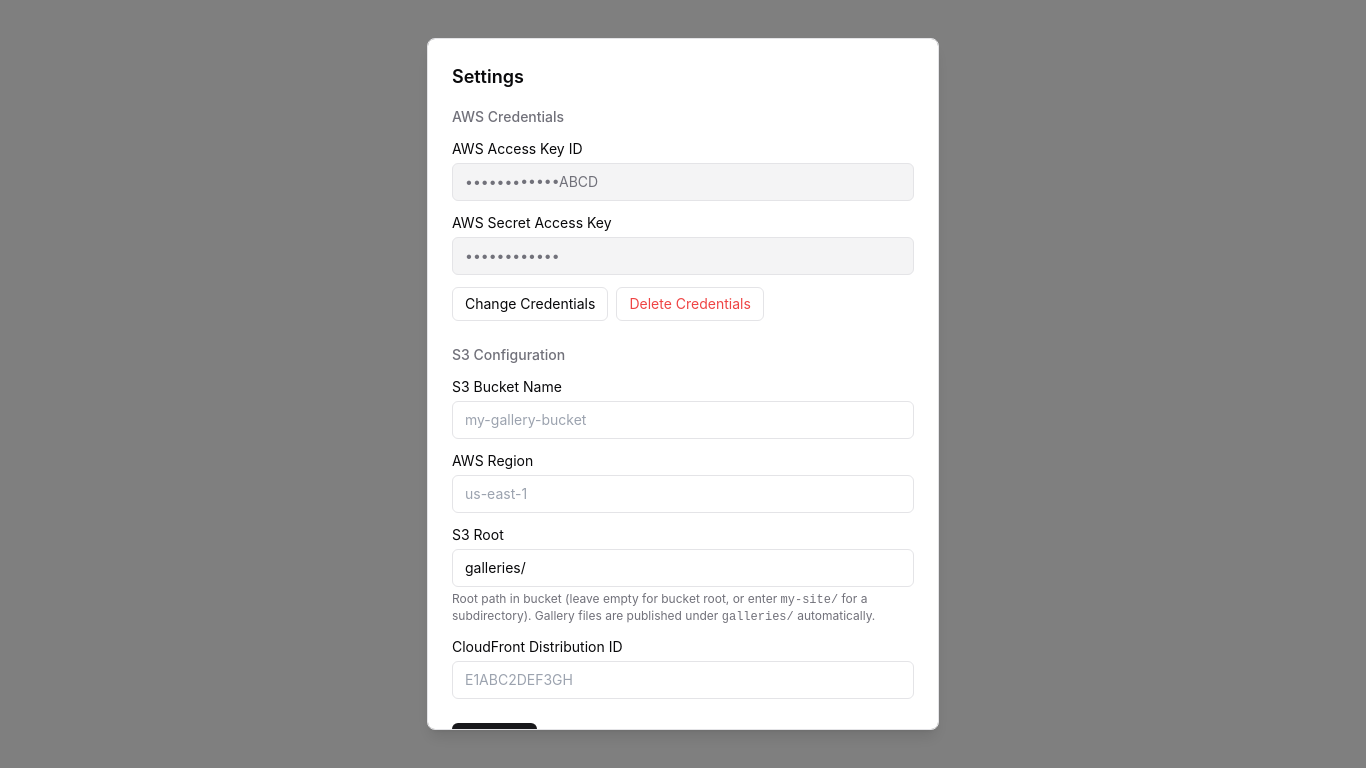
Test: SettingsDialog › shows input fields after clicking Change Credentials
What coordinates should you click on to do the following:
click the button "Change Credentials"
I would click on:
 (530, 304)
Its box is x1=452 y1=287 x2=608 y2=321.
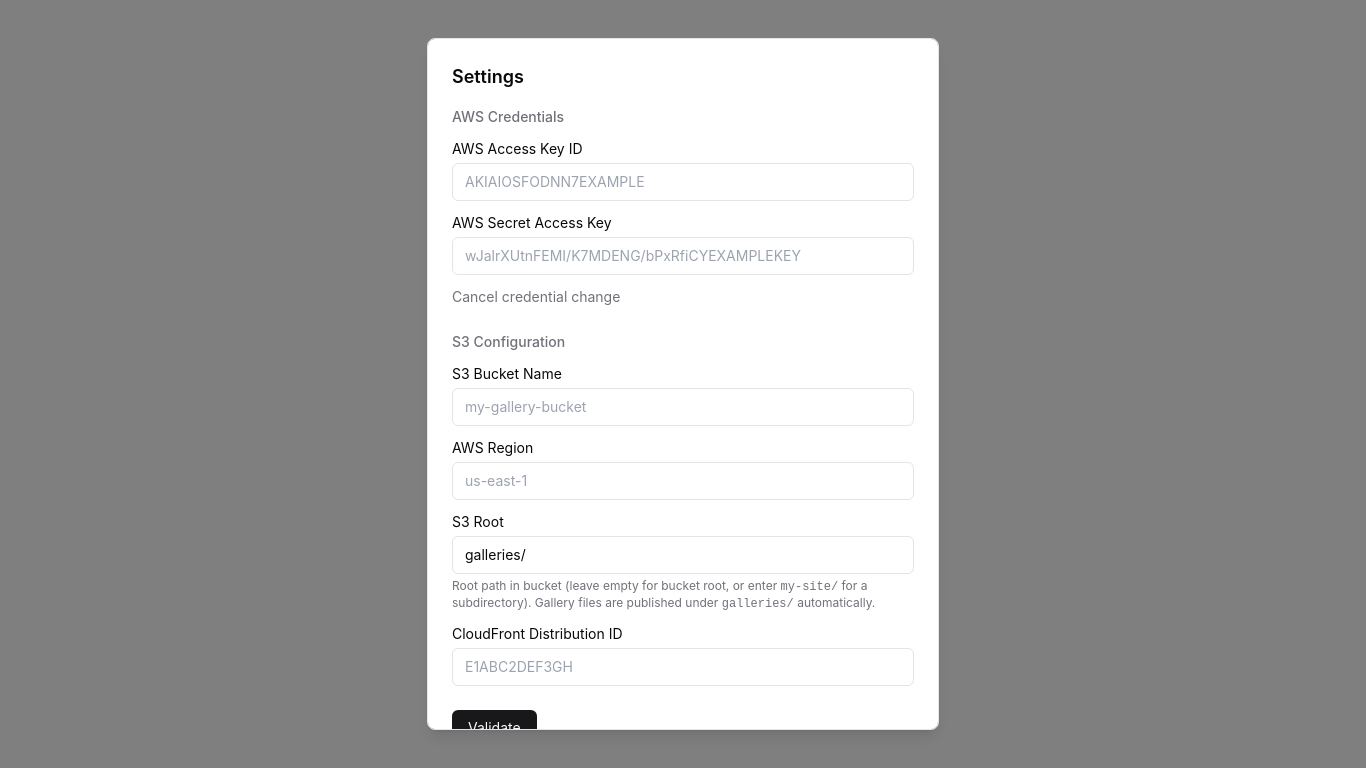
Expected: the password field with placeholder "AKIAIOSFODNN7EXAMPLE" is shown, x1=452 y1=163 x2=914 y2=201
